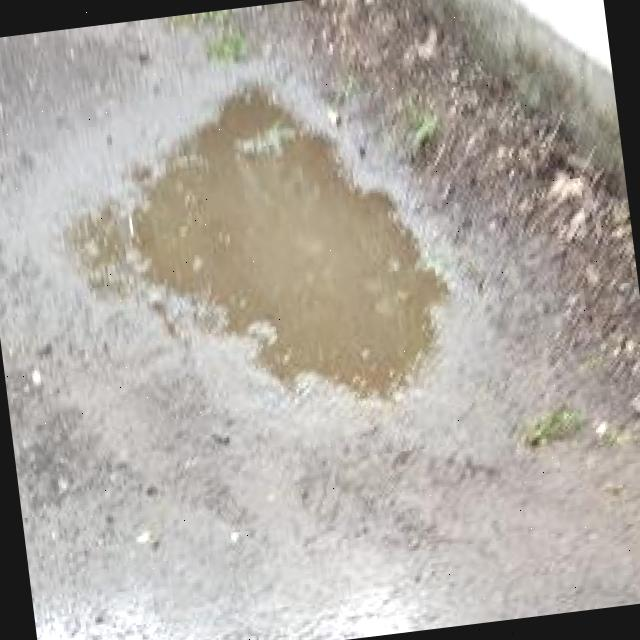waterlogging: (88, 75, 482, 426)
